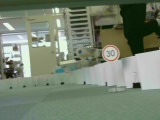speed_30: (100, 44, 120, 63)
